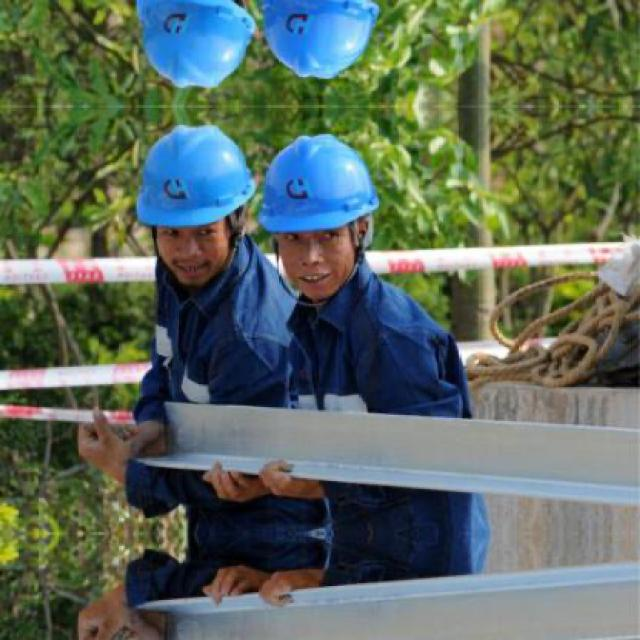con casco: (69, 122, 274, 291), (316, 126, 440, 288)
